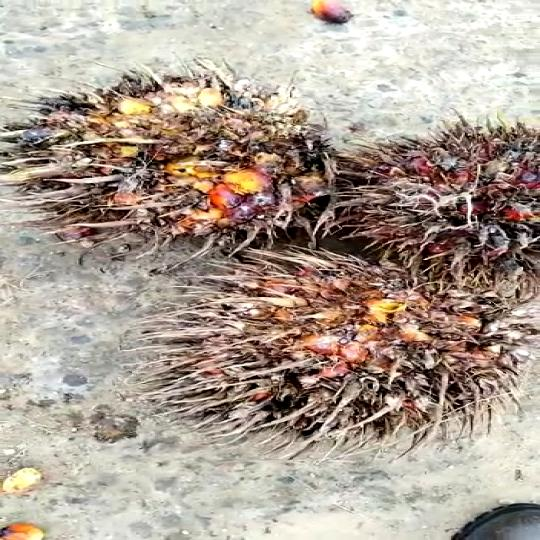terlalu masak: (144, 247, 539, 444), (0, 69, 387, 258)
